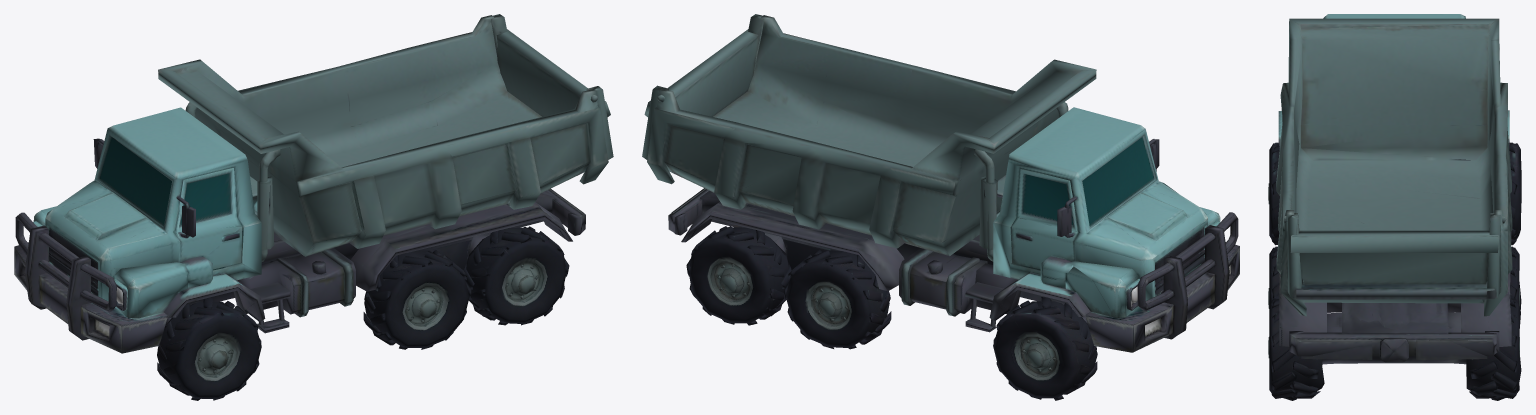
Rendered from IroncladHauler.glb.
3 views of the same model, side by side, from view 1: azimuth 30°, elevation 25°; view 2: azimuth 150°, elevation 25°; view 3: azimuth 270°, elevation 25° (orthographic). The views are drawn at different scales.
Size of the model in its own units: 0.9541 by 0.4233 by 0.3955.
Materials: 1 (1 with a texture image).
